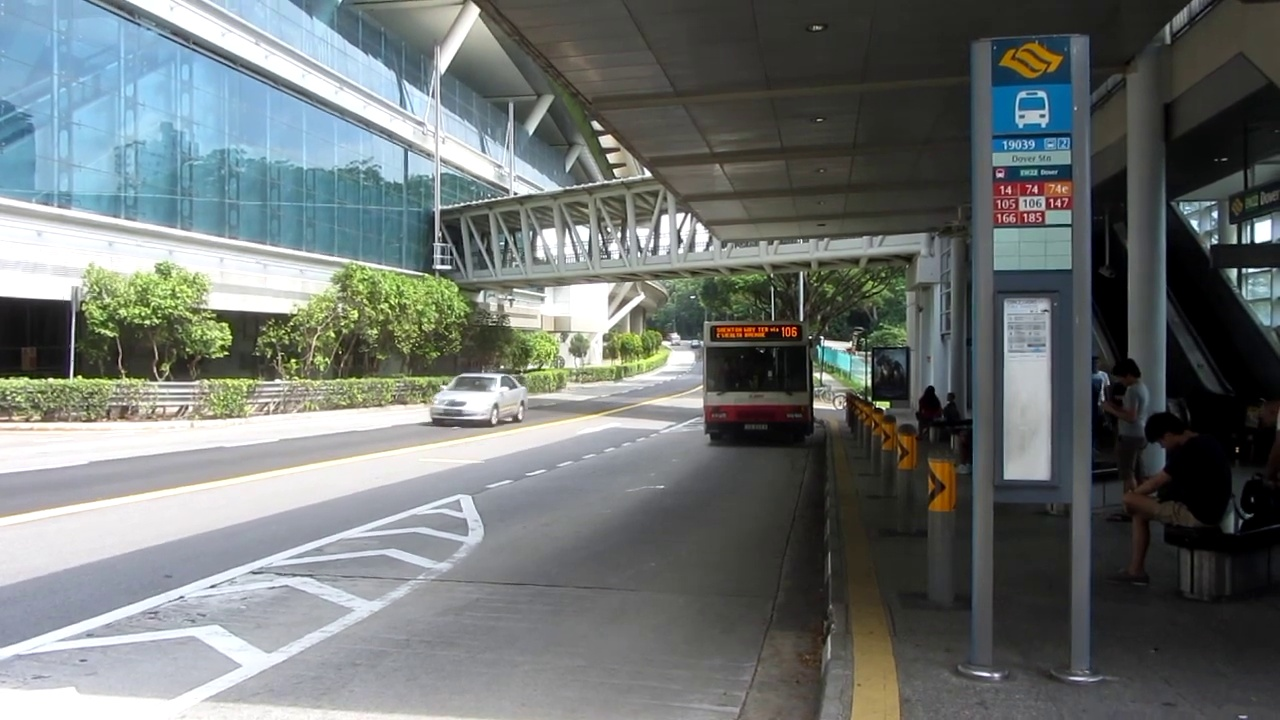bus panel: (709, 324, 803, 343)
